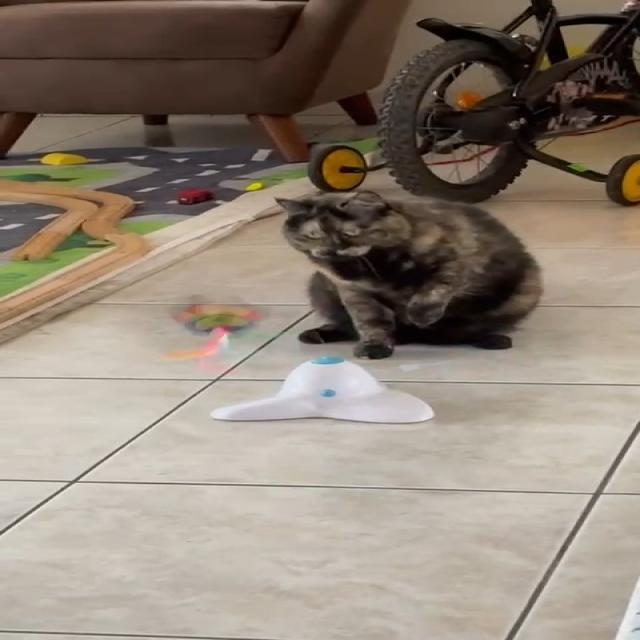authorized: (272, 189, 543, 359)
